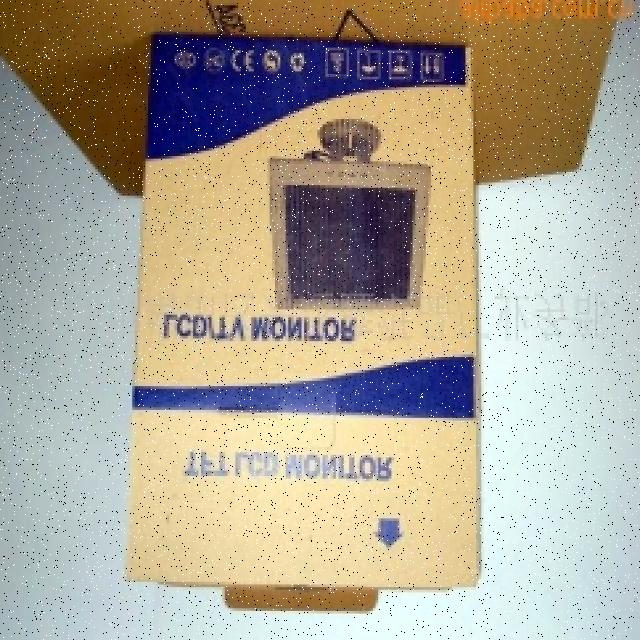box: (103, 16, 495, 603)
